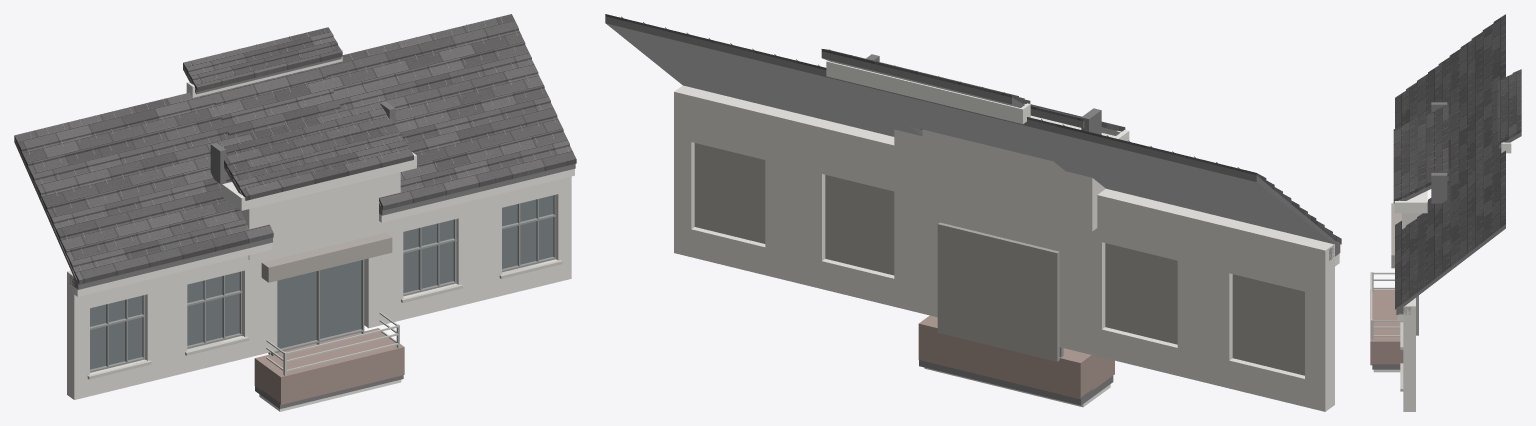
Rendered from zhongzhou-courtyard-balcony-near.glb.
3 views of the same model, side by side, from view 1: azimuth 30°, elevation 25°; view 2: azimuth 150°, elevation 25°; view 3: azimuth 270°, elevation 25° (orthographic). The views are drawn at different scales.
Parts seen in each view (by area): view 1: 华童公学中州路校舍操场侧中央阳台与钢窗; view 2: 华童公学中州路校舍操场侧中央阳台与钢窗; view 3: 华童公学中州路校舍操场侧中央阳台与钢窗.
Part boxes in pixels (left/top/right/bottom): 华童公学中州路校舍操场侧中央阳台与钢窗: left=14, top=14, right=576, bottom=411; 华童公学中州路校舍操场侧中央阳台与钢窗: left=605, top=14, right=1341, bottom=411; 华童公学中州路校舍操场侧中央阳台与钢窗: left=1370, top=14, right=1521, bottom=411.
Bounding box in the file's own units: 8.49 × 4.72 × 2.61.
Materials: 11 (1 with a texture image).
